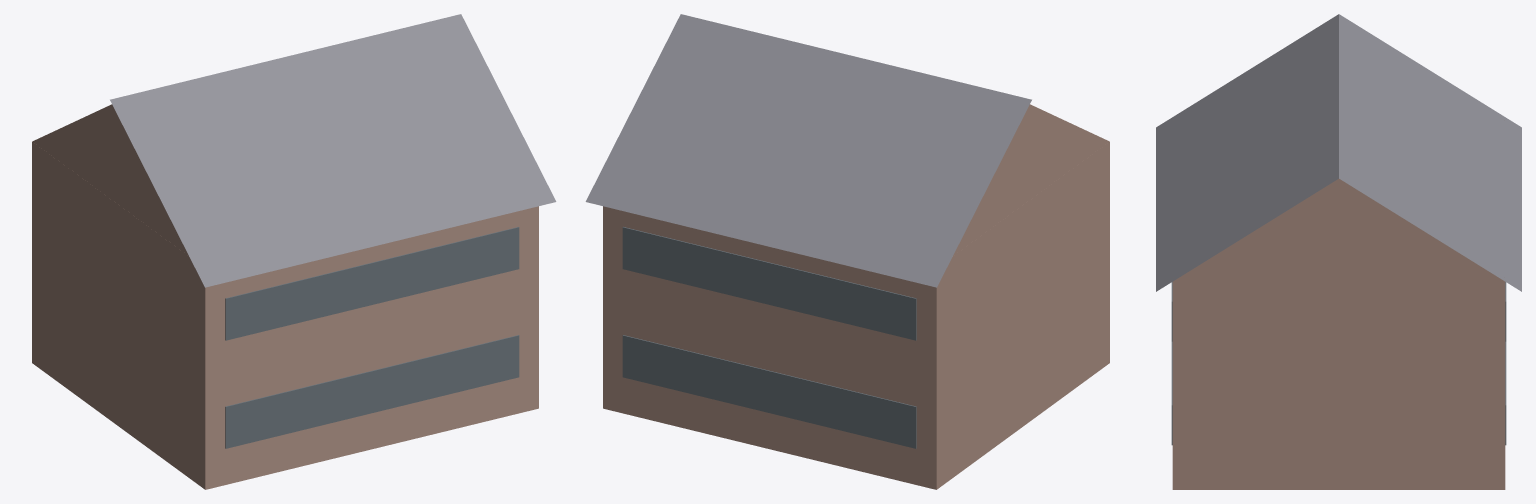
The model's file is village-store.loc-v1.lod2.glb.
3 renders of one model, left to right at view 1: azimuth 30°, elevation 25°; view 2: azimuth 150°, elevation 25°; view 3: azimuth 270°, elevation 25°, orthographic. The views are drawn at different scales.
Parts seen in each view (by area): view 1: village-store; view 2: village-store; view 3: village-store.
Part boxes in pixels (x1,y1,x2,y2): village-store: [32, 14, 556, 489]; village-store: [585, 14, 1109, 489]; village-store: [1156, 14, 1521, 489].
Size of the model in its own units: 10.54 by 9.43 by 9.9.
